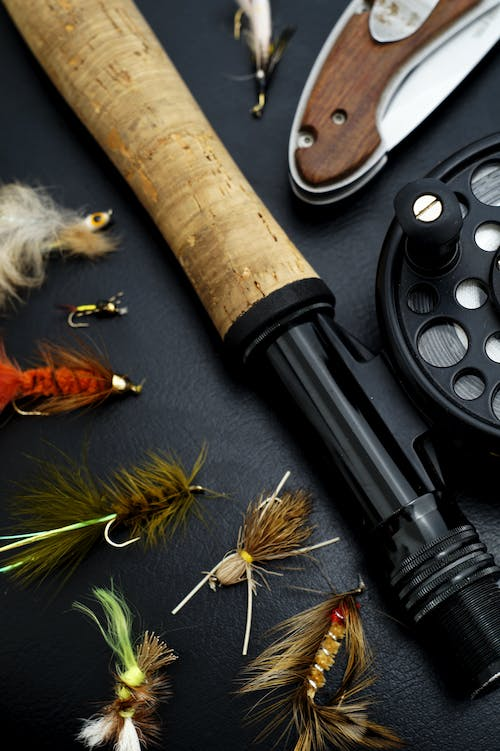knife: (285, 0, 500, 207)
